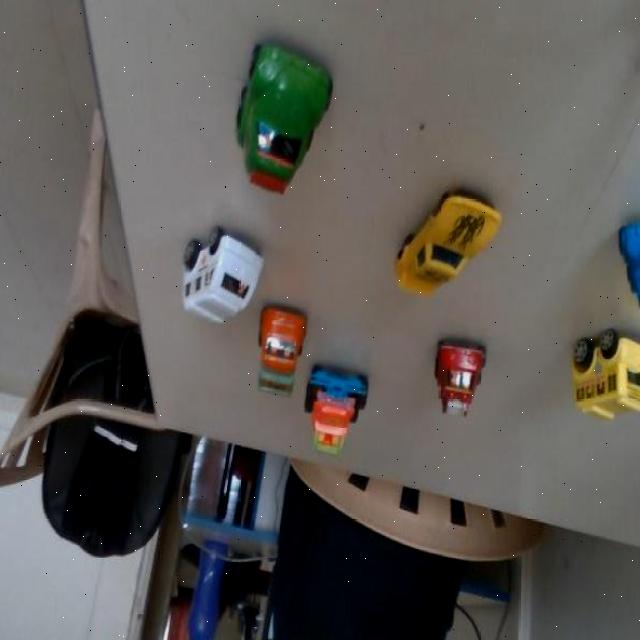car: (175, 0, 360, 215), (153, 193, 284, 356), (371, 176, 511, 305), (300, 366, 382, 469), (244, 294, 312, 412), (559, 319, 640, 418), (420, 325, 490, 424), (616, 206, 640, 320)
